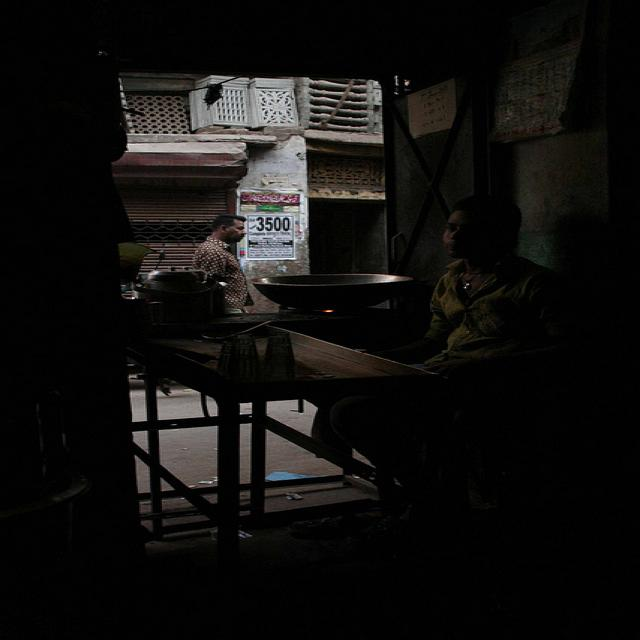People: (411, 187, 551, 383), (194, 185, 274, 309)
Table: (119, 280, 448, 553)
